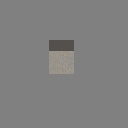supply_truck: (49, 40, 74, 74)
